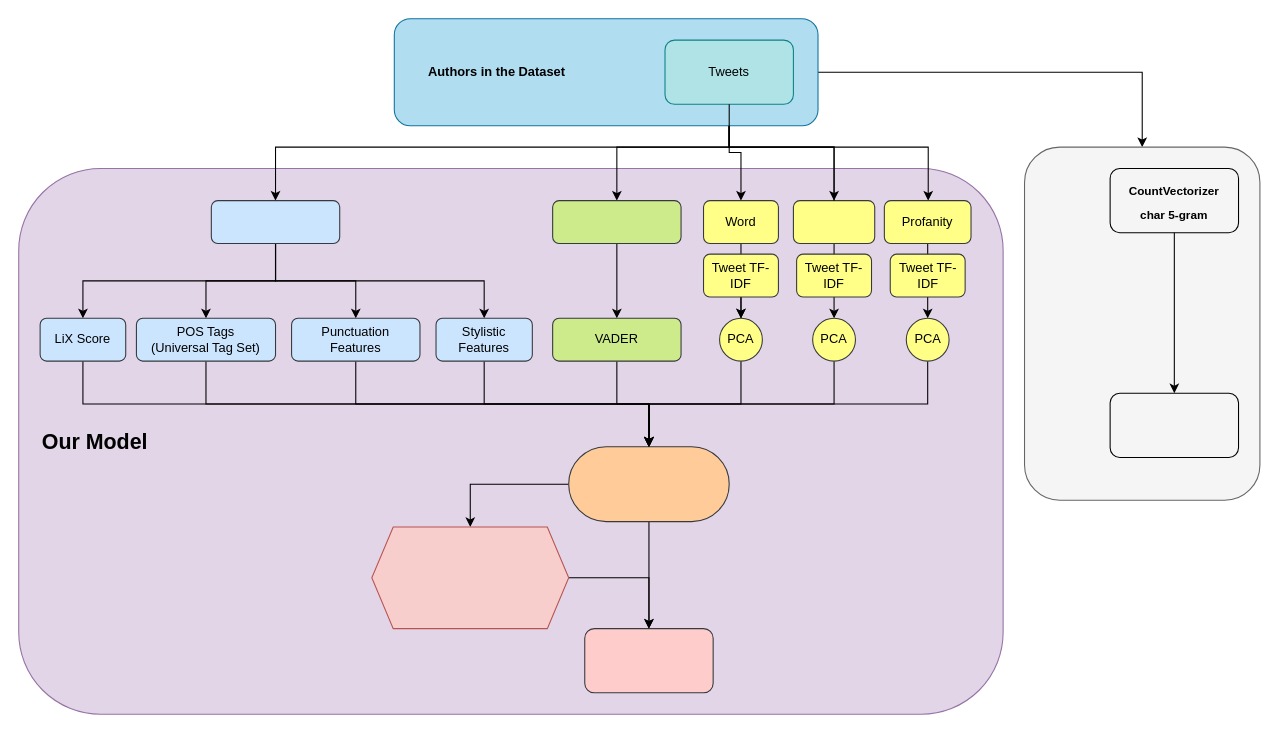
This 1279x733 diagram has some shape labels left out. Here are the shapes that lost their labels. From the top down, the box of each, then its label:
(210, 200, 340, 243): Structure
(552, 200, 681, 243): Sentiment
(792, 200, 875, 243): Emoji
(1023, 146, 1260, 500): Baseline
(1109, 392, 1239, 457): SVM
(568, 446, 729, 522): Concatenate
(371, 526, 569, 629): Tuning Parameters for PCA & Classifier
(584, 628, 713, 693): Binary Classifier
